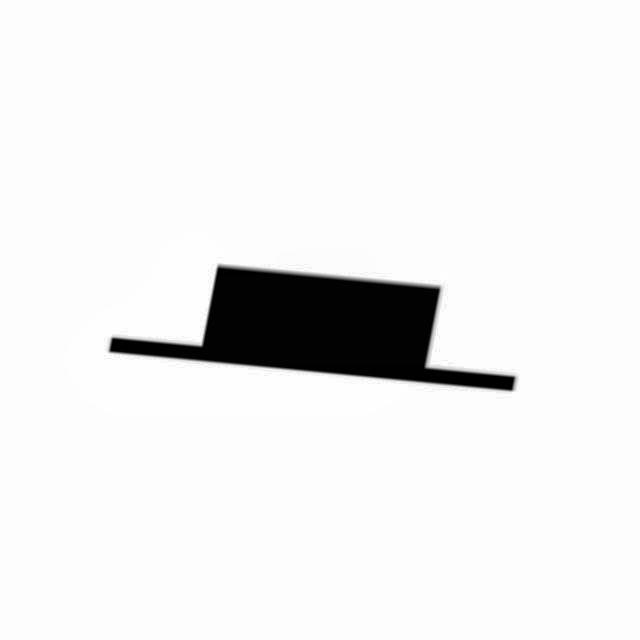Half-rest: (65, 249, 538, 419)
